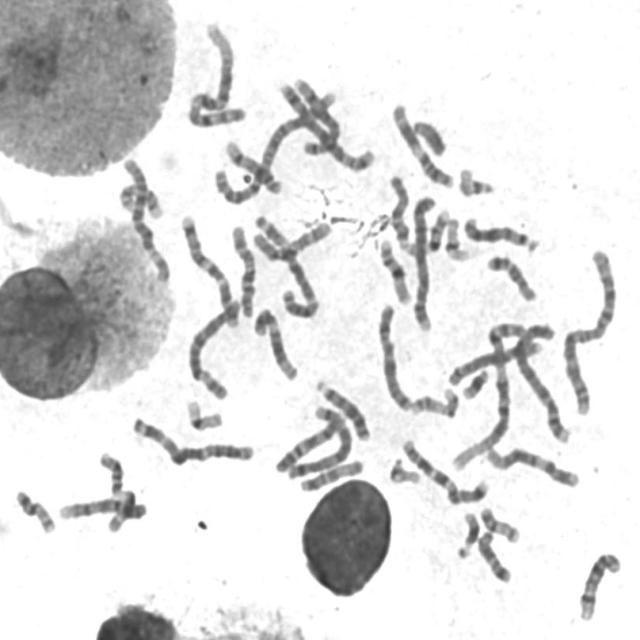A1: (446, 319, 544, 472), (180, 16, 246, 129)
A2: (207, 81, 342, 206), (558, 243, 620, 417)
A3: (247, 208, 321, 320), (126, 410, 257, 468)
B4: (507, 317, 573, 444), (407, 190, 437, 333)
B5: (274, 74, 377, 173), (286, 404, 353, 483)
C10: (247, 215, 334, 263), (226, 219, 257, 319)
C11: (386, 97, 456, 190), (94, 448, 133, 534)
C12: (480, 440, 581, 490), (249, 303, 300, 383)
C6: (116, 152, 174, 286), (182, 294, 242, 401)
C7: (177, 210, 240, 329), (397, 434, 490, 506)
C8: (276, 409, 348, 479), (292, 77, 342, 156)
C9: (446, 340, 546, 388), (53, 492, 149, 522)
D13: (311, 373, 373, 444), (458, 210, 540, 253)
D14: (220, 134, 284, 196), (574, 547, 624, 622)
D15: (295, 452, 366, 494), (384, 169, 414, 250)
E16: (374, 233, 413, 306), (406, 208, 452, 257)
E17: (113, 178, 166, 220), (406, 382, 460, 420)
E18: (482, 248, 540, 304), (473, 526, 514, 584)
F19: (181, 394, 225, 432), (441, 212, 471, 262)
F20: (10, 484, 56, 536), (474, 502, 522, 544)
G21: (450, 507, 481, 561), (458, 363, 492, 401)
G22: (453, 162, 497, 199), (384, 452, 423, 487)
X: (372, 297, 415, 413)
Y: (409, 114, 448, 158)
